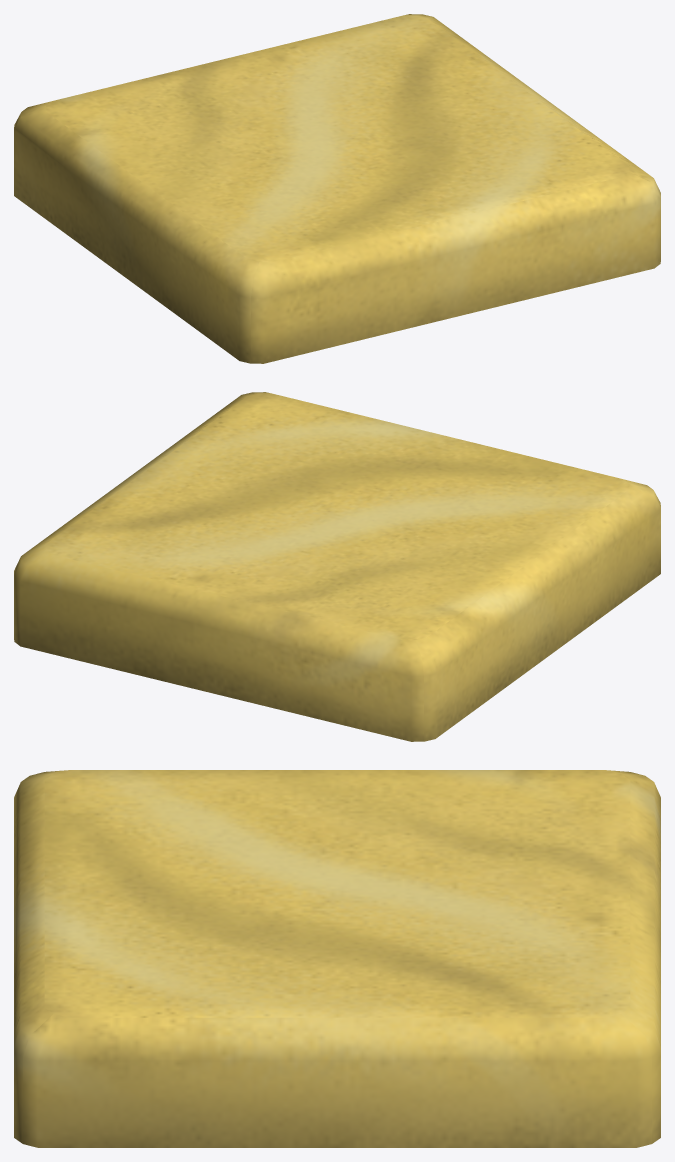
Rendered from Block_Cap_Sand.fbx.
The picture shows the model from 3 angles, top to bottom: view 1: azimuth 30°, elevation 25°; view 2: azimuth 150°, elevation 25°; view 3: azimuth 270°, elevation 25°; orthographic projection. The views are drawn at different scales.
Parts seen in each view (by area): view 1: Block_Cap_Sand; view 2: Block_Cap_Sand; view 3: Block_Cap_Sand.
Part boxes in pixels (box(x1,y1,x2,y2)): Block_Cap_Sand: box(14, 14, 660, 363); Block_Cap_Sand: box(14, 392, 660, 741); Block_Cap_Sand: box(14, 770, 660, 1147).
Bounding box in the file's own units: 100 × 20 × 100.
